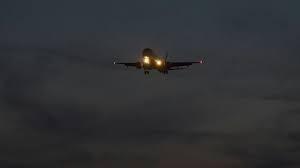Plane: (94, 43, 215, 85)
